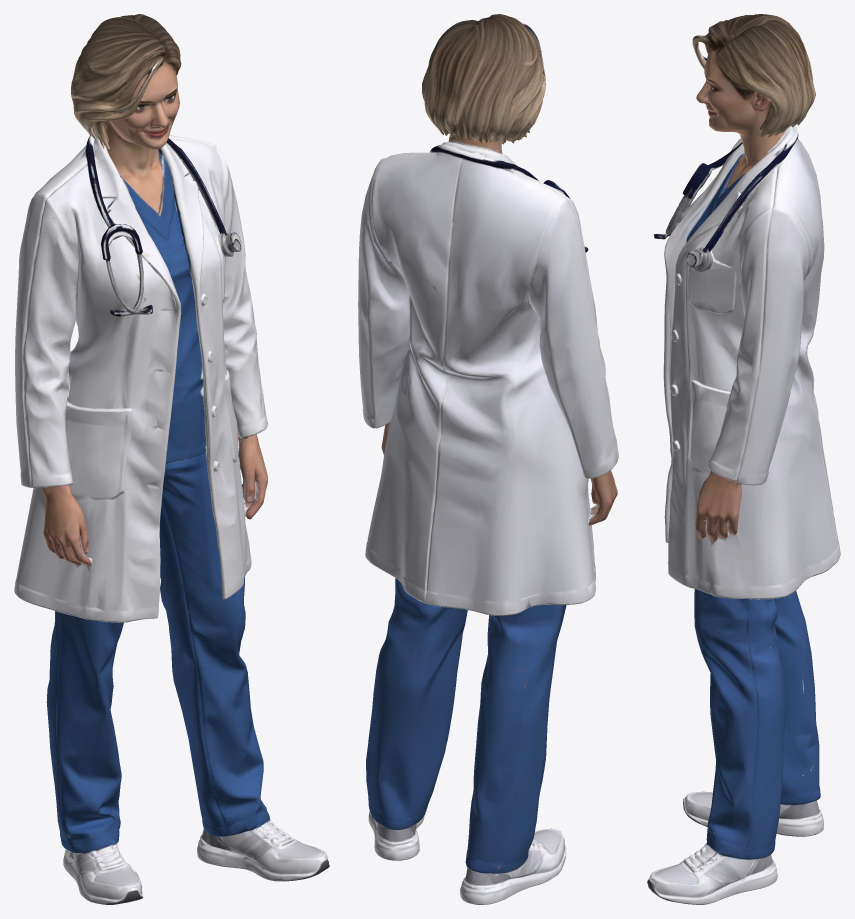
3 renders of one model, left to right at view 1: azimuth 30°, elevation 25°; view 2: azimuth 150°, elevation 25°; view 3: azimuth 270°, elevation 25°, orthographic. The views are drawn at different scales.
Visible parts, largest first — view 1: dr3; view 2: dr3; view 3: dr3.
Boxes of the visible parts, box(x1,y1,x2,y2) form: dr3: box(14, 14, 329, 904); dr3: box(358, 14, 618, 904); dr3: box(647, 14, 840, 904).
Size of the model in its own units: 0.6215 by 1.9 by 0.4061.
Materials: 1 (1 with a texture image).
